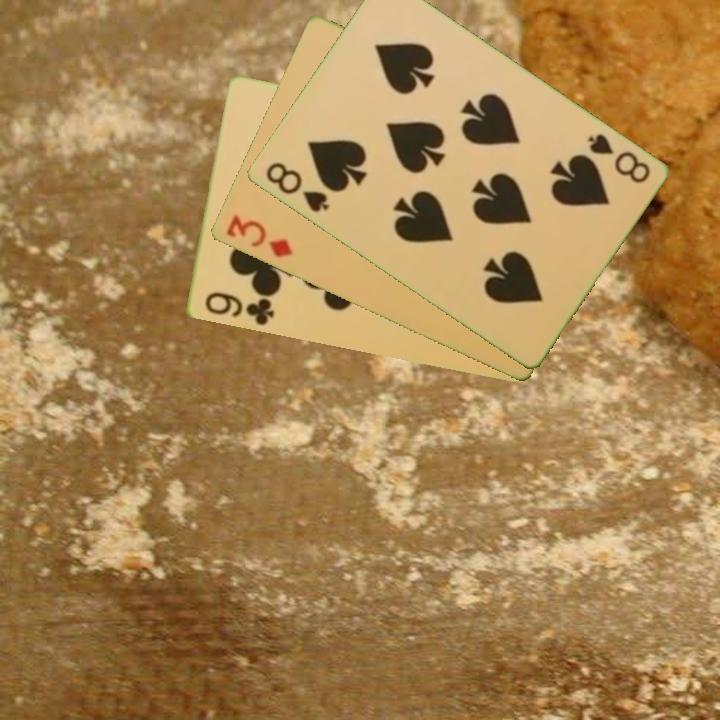3d: (222, 212, 296, 261)
8s: (261, 158, 332, 216), (583, 130, 653, 187)
9c: (201, 289, 277, 329)
